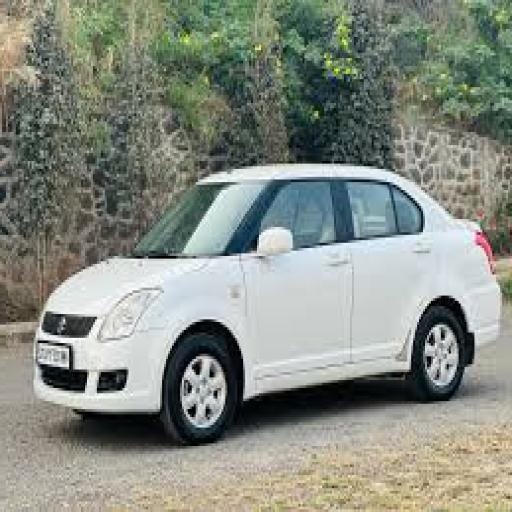License: (28, 340, 77, 365)
